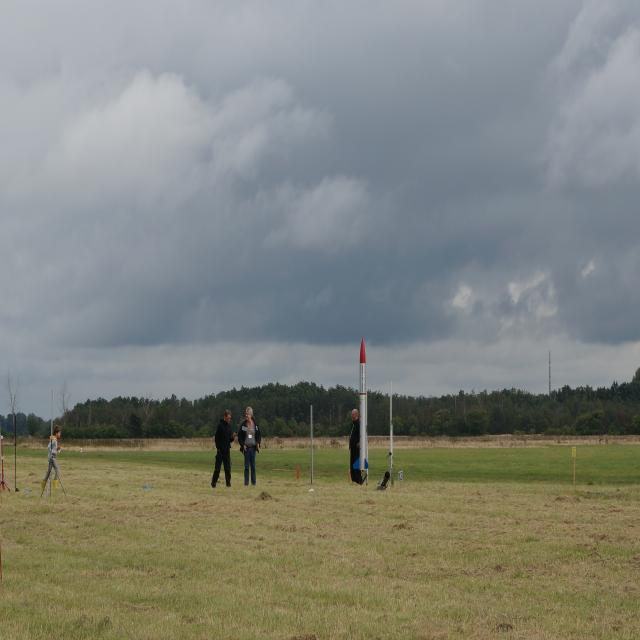Rocket: (353, 337, 369, 471)
